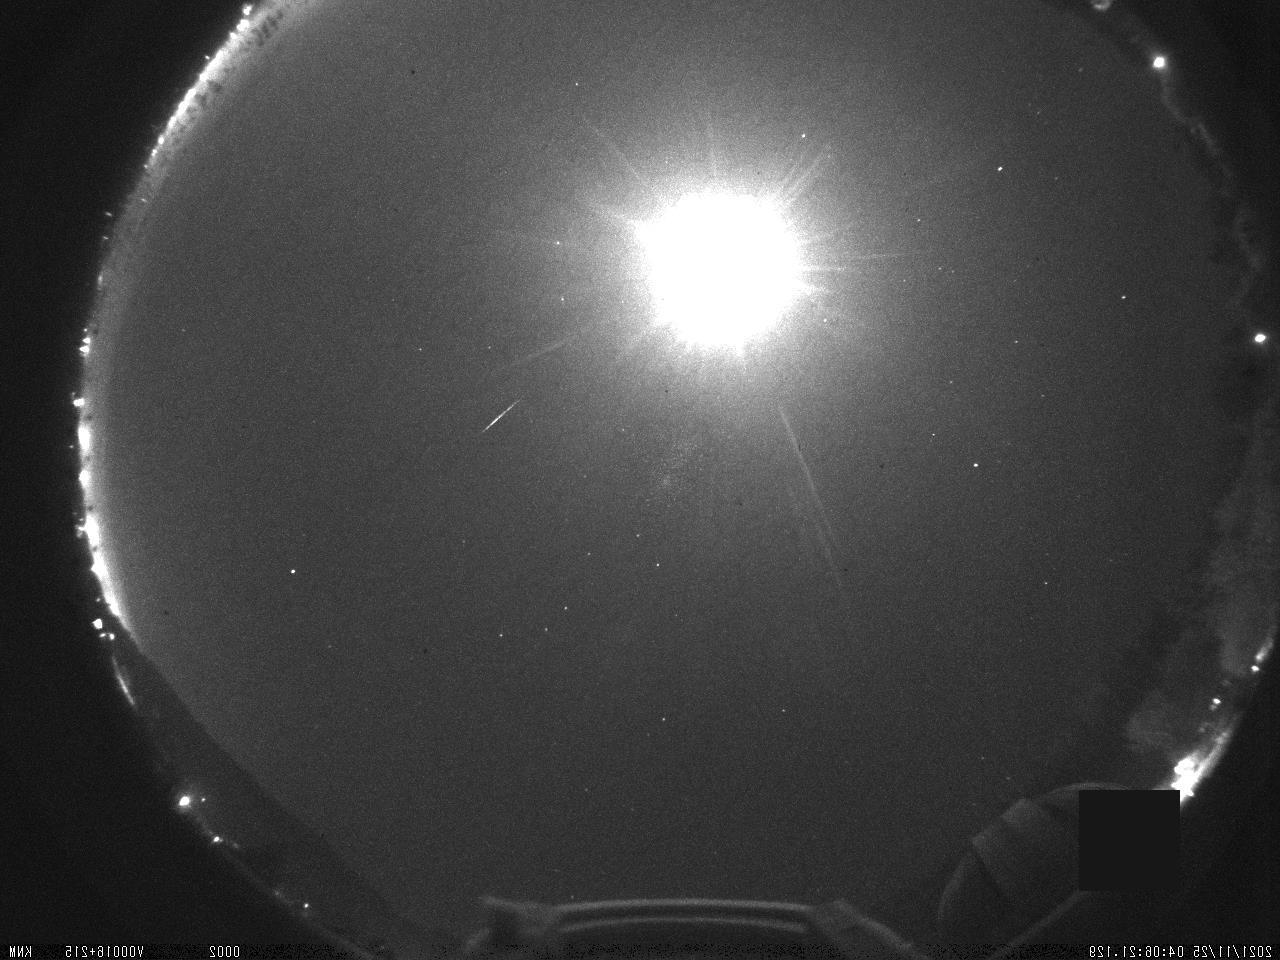meteor: (468, 388, 528, 454)
